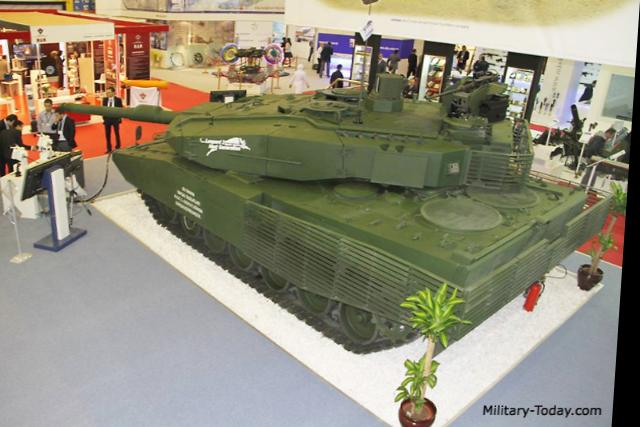tank: (97, 69, 619, 334)
